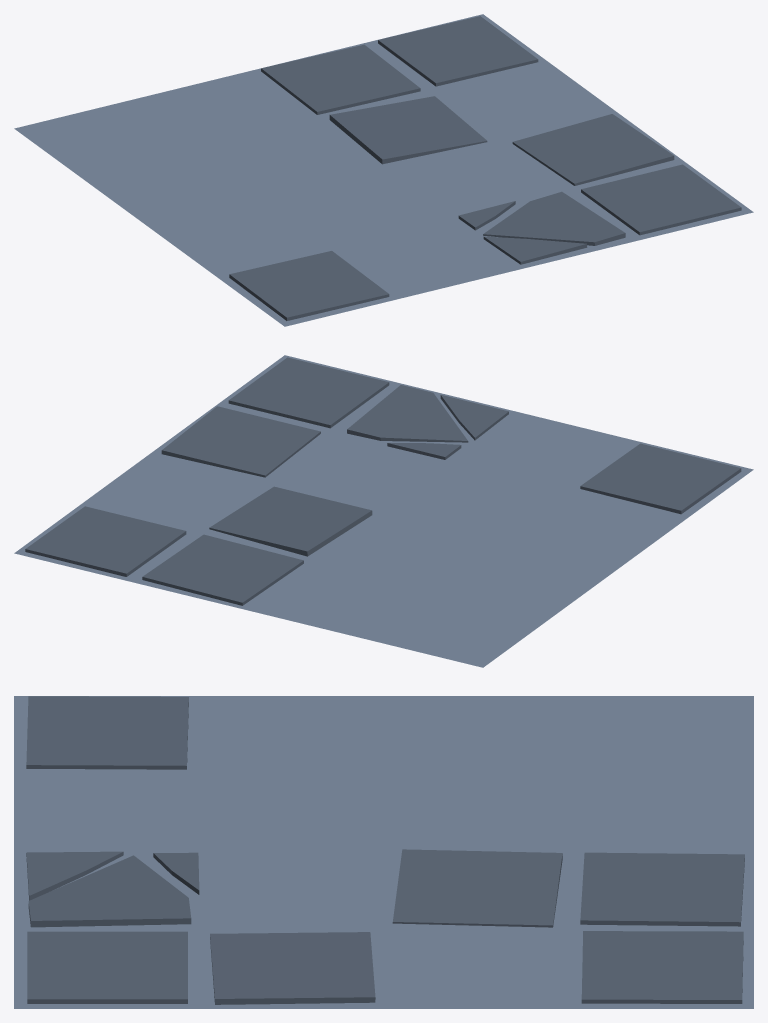
File: FloorTile05.fbx
3 renders of one model, top to bottom at view 1: azimuth 30°, elevation 25°; view 2: azimuth 150°, elevation 25°; view 3: azimuth 270°, elevation 25°, orthographic. The views are drawn at different scales.
Parts seen in each view (by area): view 1: Plane.004; view 2: Plane.004; view 3: Plane.004.
Part boxes in pixels (x1=…): Plane.004: x1=14, y1=14, x2=753, y2=326; Plane.004: x1=14, y1=355, x2=753, y2=667; Plane.004: x1=14, y1=696, x2=753, y2=1008.
Bounding box in the file's own units: 800 × 15.51 × 800.
Materials: 1 (1 with a texture image).
